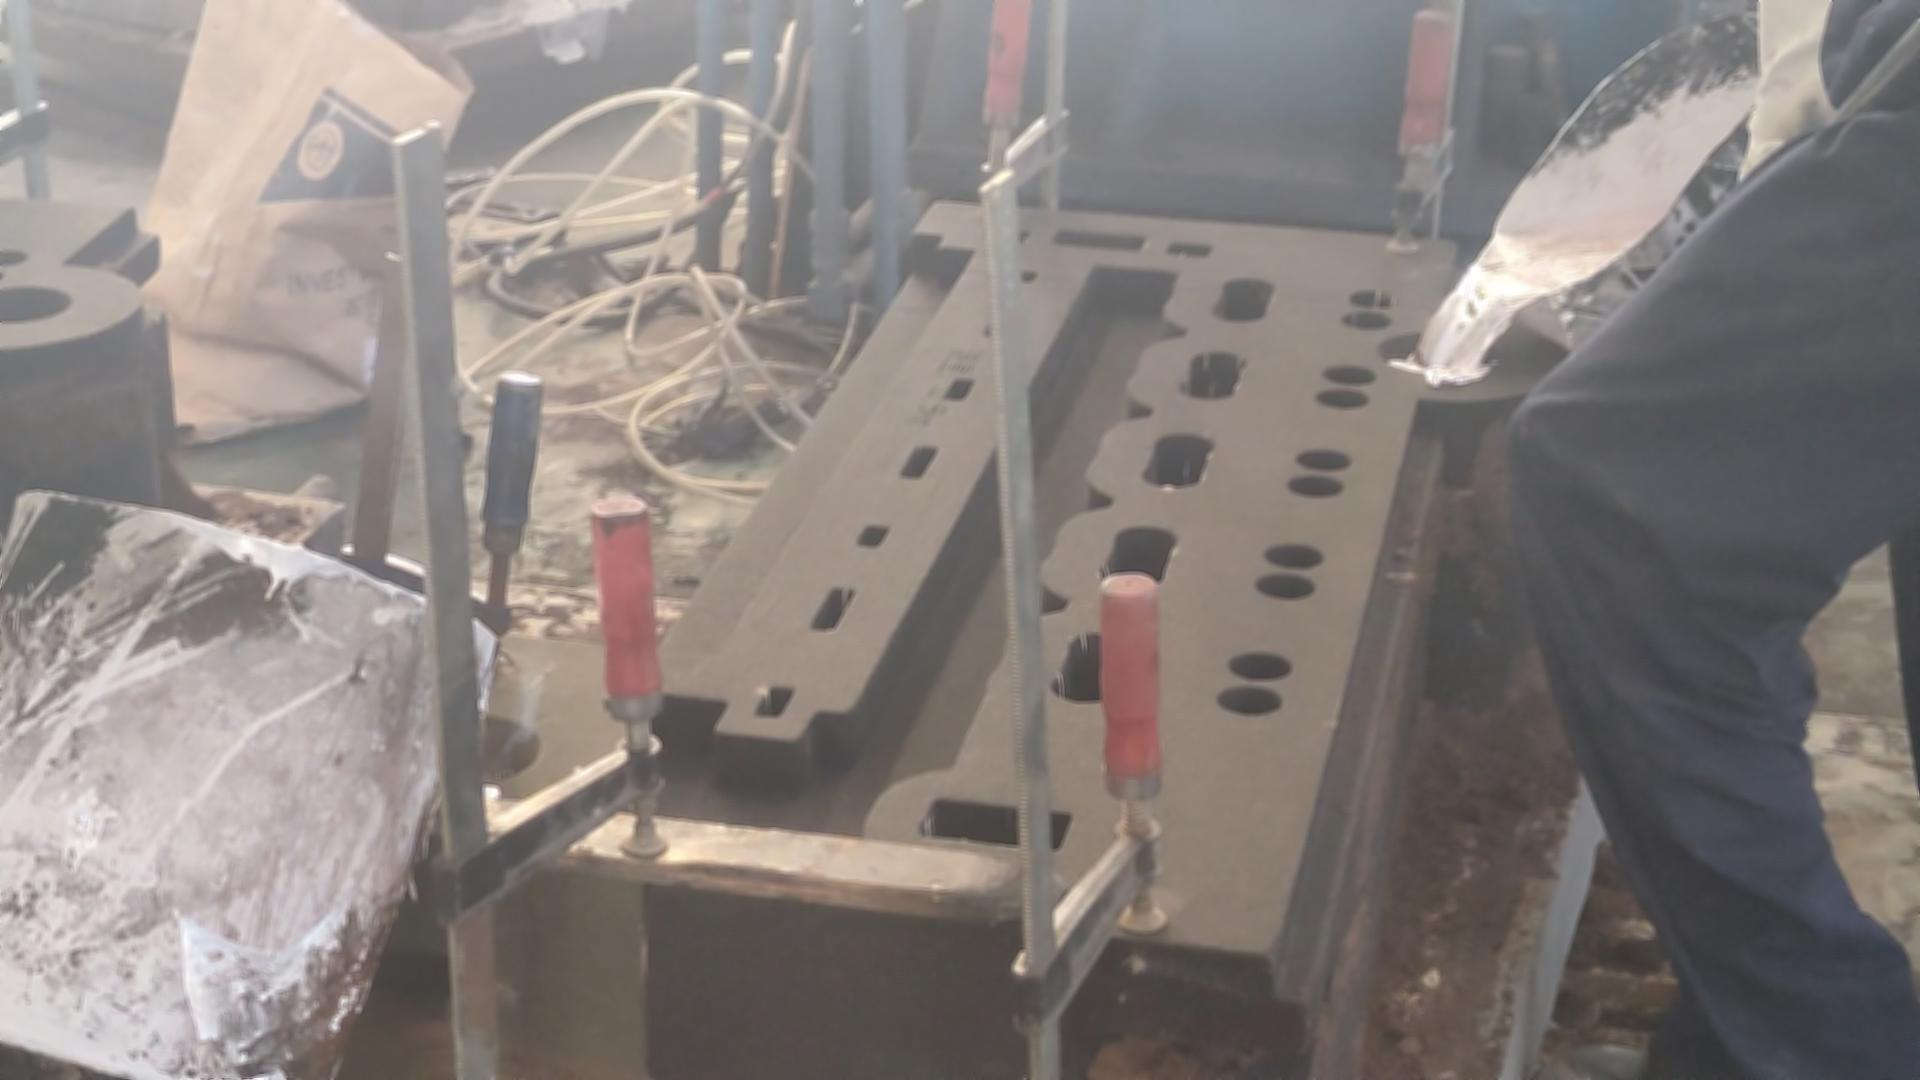pouring hole: (429, 712, 542, 782), (1374, 328, 1497, 375), (1, 284, 73, 323)
